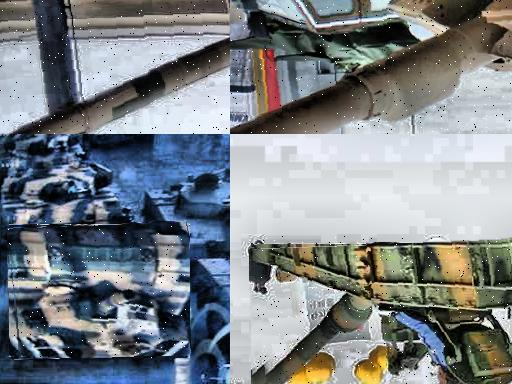tanks: (231, 1, 512, 135), (258, 240, 512, 384), (9, 222, 191, 359), (1, 34, 231, 135), (5, 163, 123, 235), (144, 169, 231, 266), (192, 259, 231, 384), (1, 135, 80, 177), (84, 135, 156, 148)
